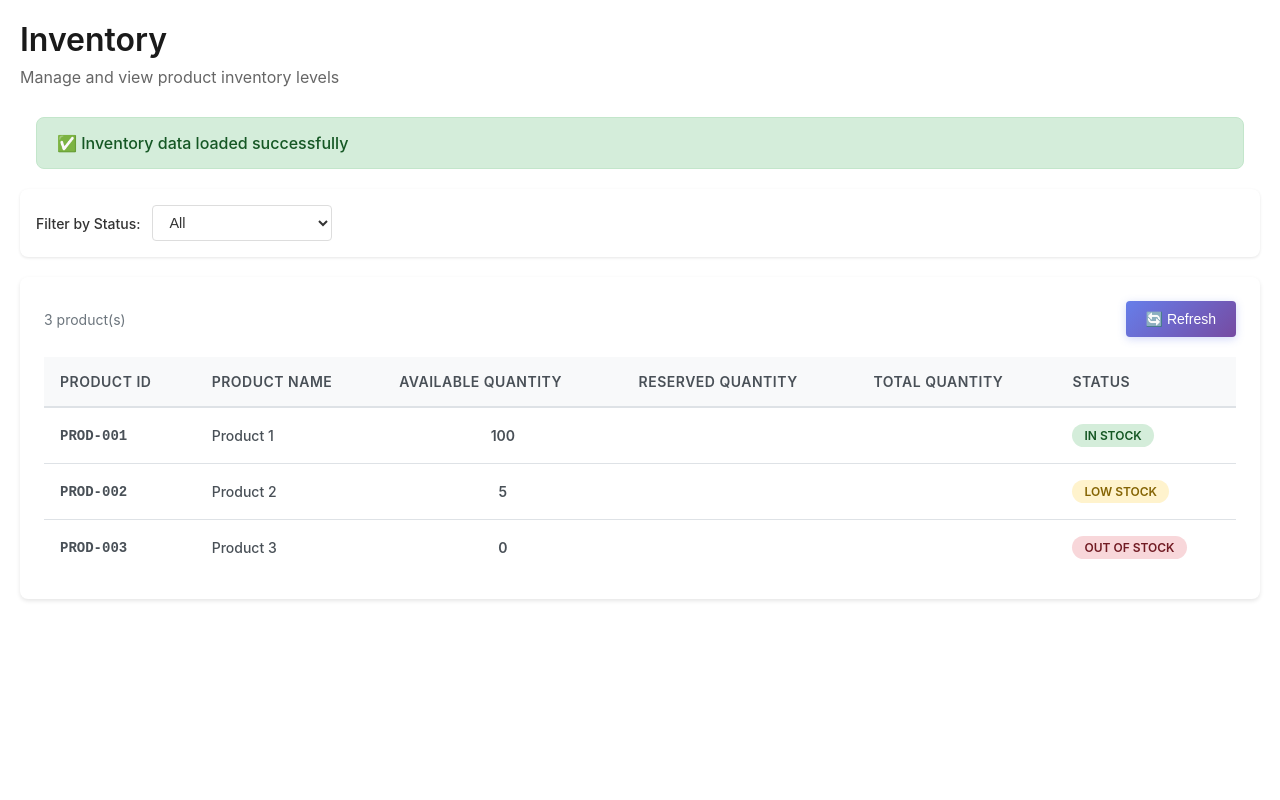
Scenario: InventoryPage Component › refreshes inventory when refresh button is clicked
The width and height of the screenshot is (1280, 800).
Click refresh button
Click the button "🔄 Refresh". click: [1181, 319]
box: x1=1126 y1=301 x2=1236 y2=337
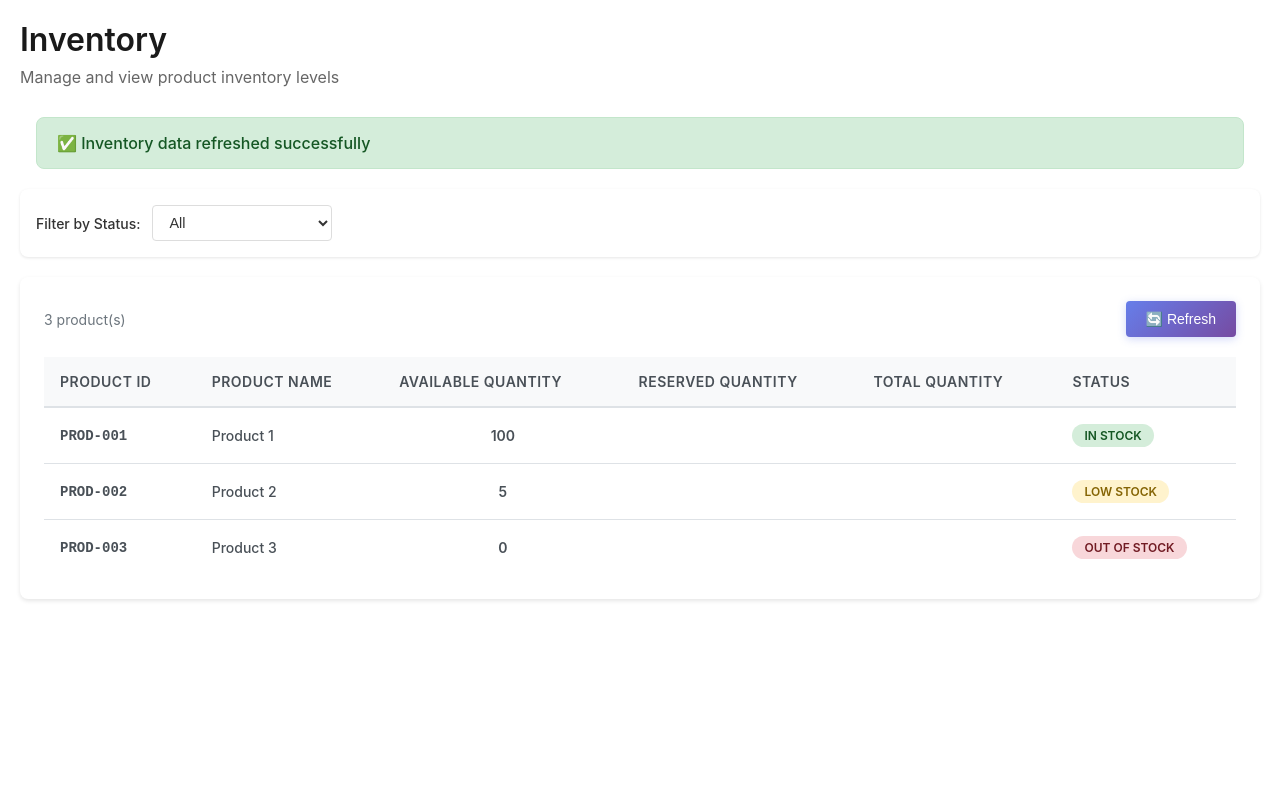
Result: the text "✅ Inventory data refreshed successfully" is shown at x1=36 y1=117 x2=1244 y2=169
